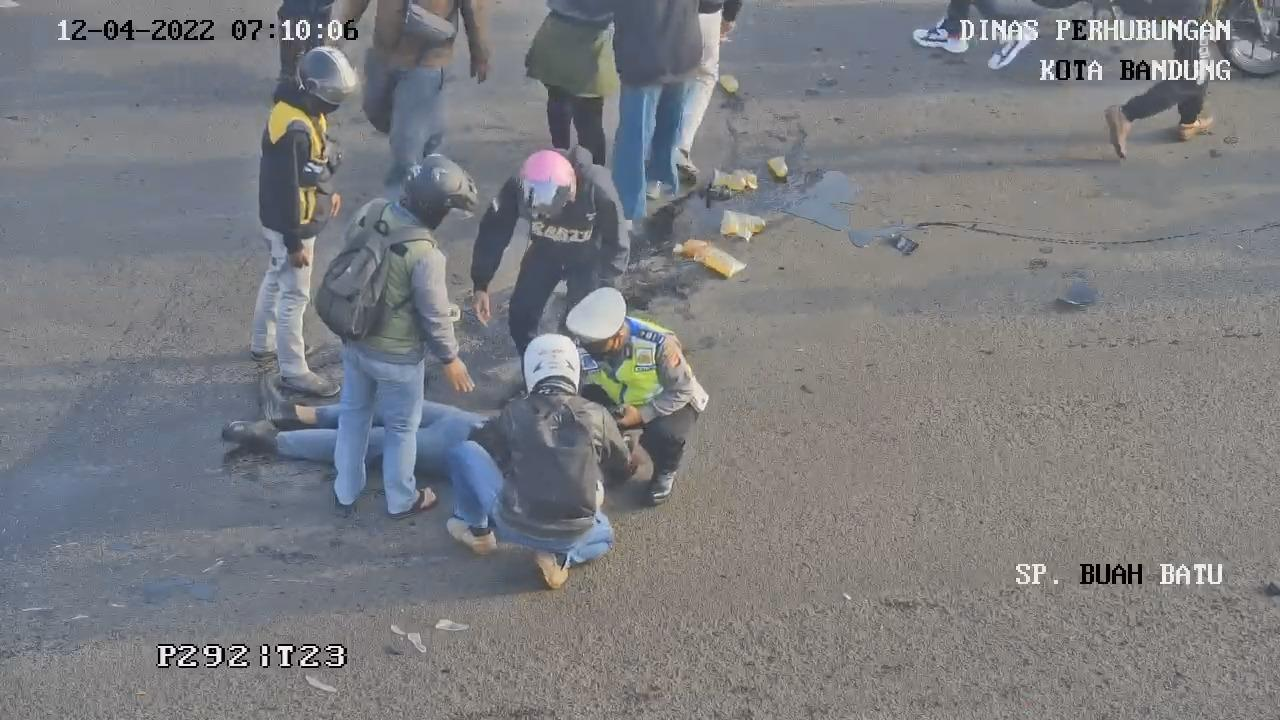accident: (199, 350, 481, 477)
